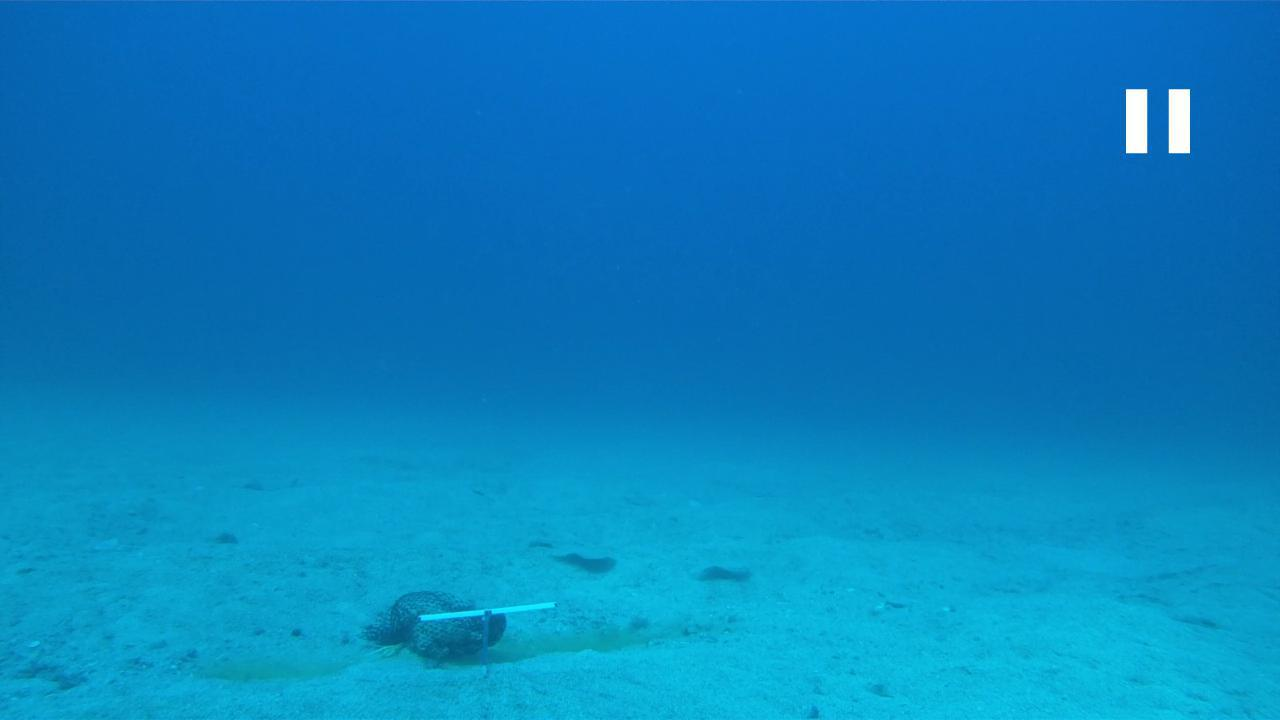bothus: (524, 531, 620, 570), (689, 550, 755, 585)
